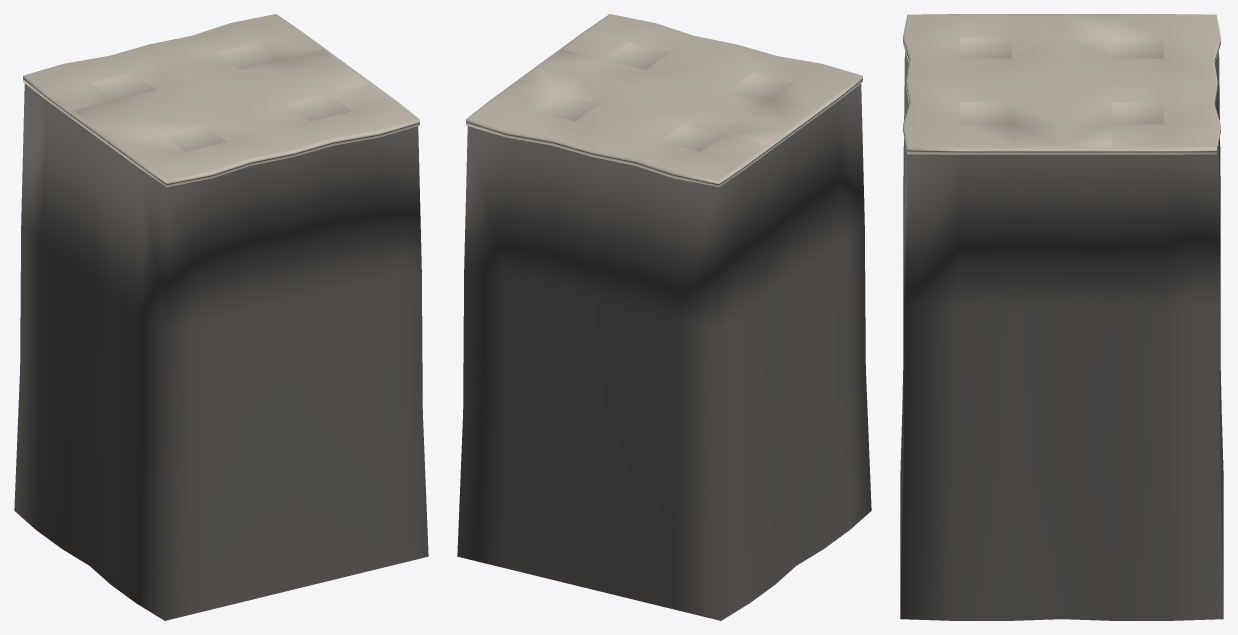
File: Platformer_FBX.fbx
3 renders of one model, left to right at view 1: azimuth 30°, elevation 25°; view 2: azimuth 150°, elevation 25°; view 3: azimuth 270°, elevation 25°, orthographic. The views are drawn at different scales.
Parts seen in each view (by area): view 1: Platformer; view 2: Platformer; view 3: Platformer.
Part boxes in pixels (x1,y1,x2,y2): Platformer: [14, 14, 428, 620]; Platformer: [457, 14, 871, 620]; Platformer: [900, 14, 1223, 620].
Bounding box in the file's own units: 863 × 1332 × 832.
